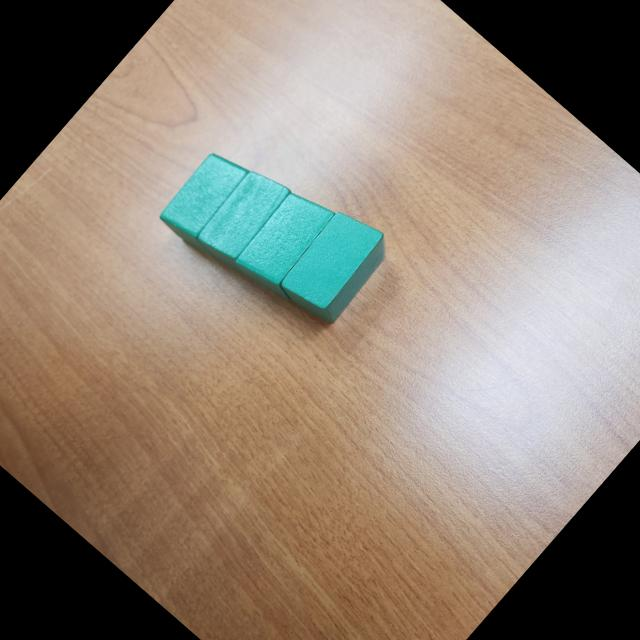green: (272, 200, 399, 333), (228, 182, 352, 310), (190, 160, 304, 280), (154, 143, 268, 260)
